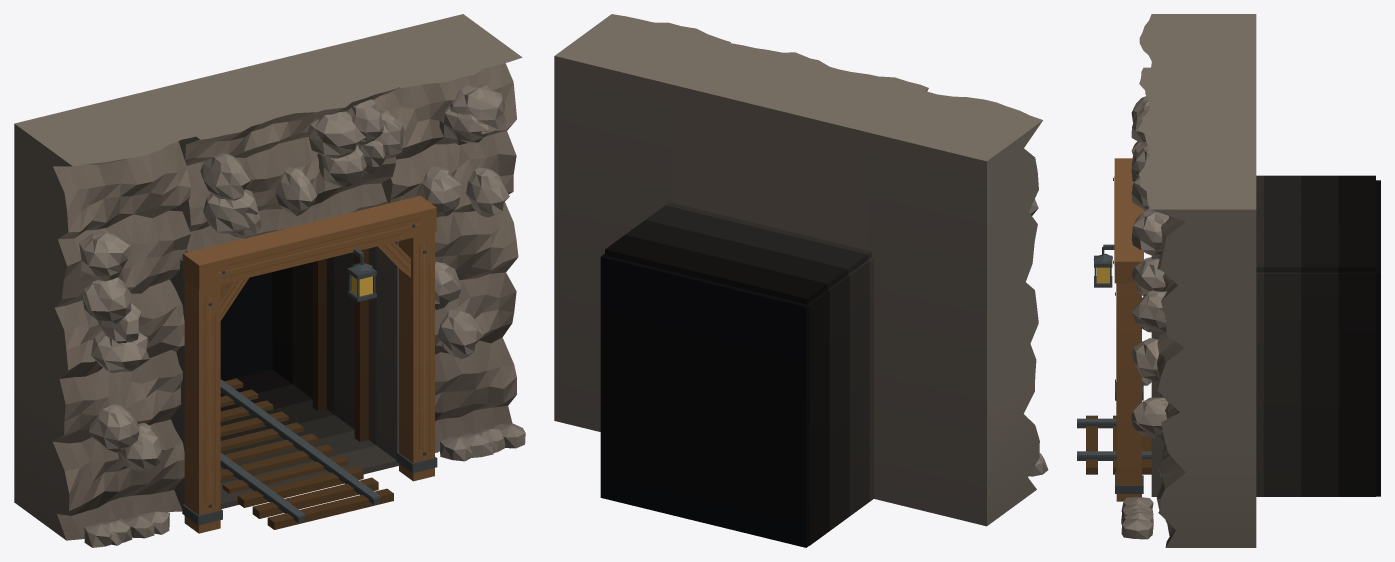
The model's file is mine_entrance.glb.
3 views of the same model, side by side, from view 1: azimuth 30°, elevation 25°; view 2: azimuth 150°, elevation 25°; view 3: azimuth 270°, elevation 25° (orthographic). The views are drawn at different scales.
Visible parts, largest first — view 1: mine_entrance; view 2: mine_entrance; view 3: mine_entrance.
Part boxes in pixels (<box>): mine_entrance: <box>14,14,525,547</box>; mine_entrance: <box>554,14,1048,547</box>; mine_entrance: <box>1077,14,1380,547</box>.
Size of the model in its own units: 6.2 by 5 by 4.07.
